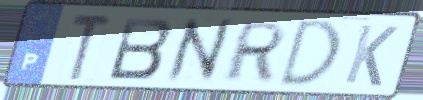B: (106, 15, 175, 81)
D: (275, 17, 343, 89)
K: (341, 22, 401, 89)
N: (163, 15, 235, 85)
R: (219, 20, 290, 84)
T: (68, 11, 115, 82)
